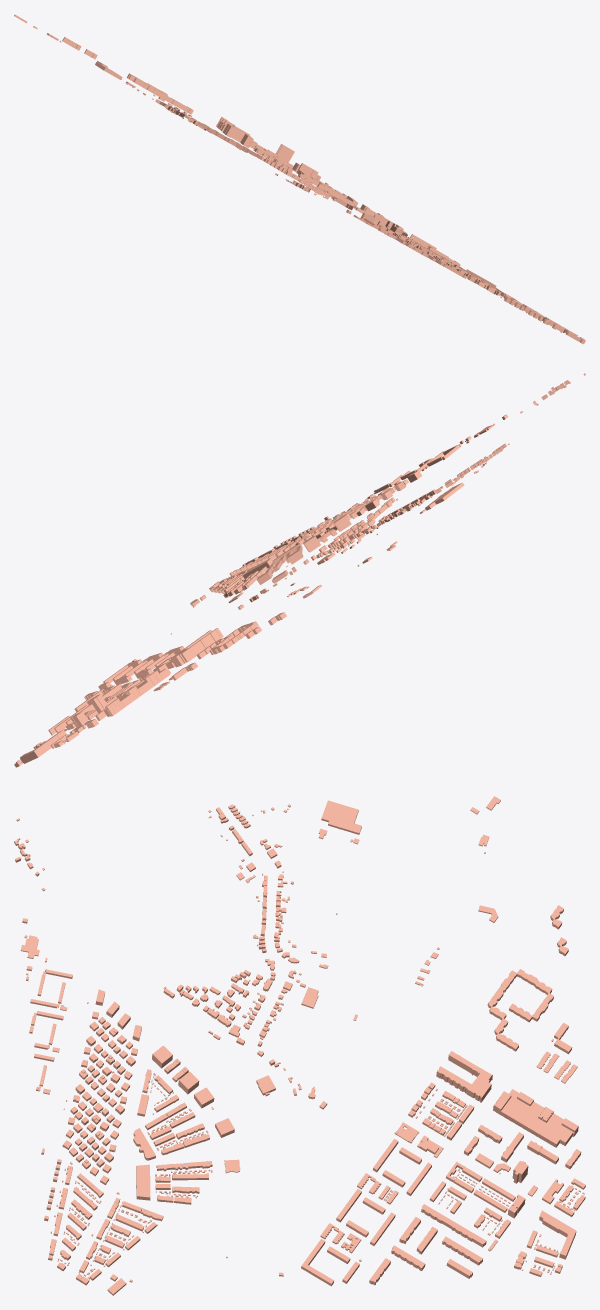
3 renders of one model, top to bottom at view 1: azimuth 30°, elevation 25°; view 2: azimuth 150°, elevation 25°; view 3: azimuth 270°, elevation 25°, orthographic. The views are drawn at different scales.
Size of the model in its own units: 1043 by 744 by 1268.
